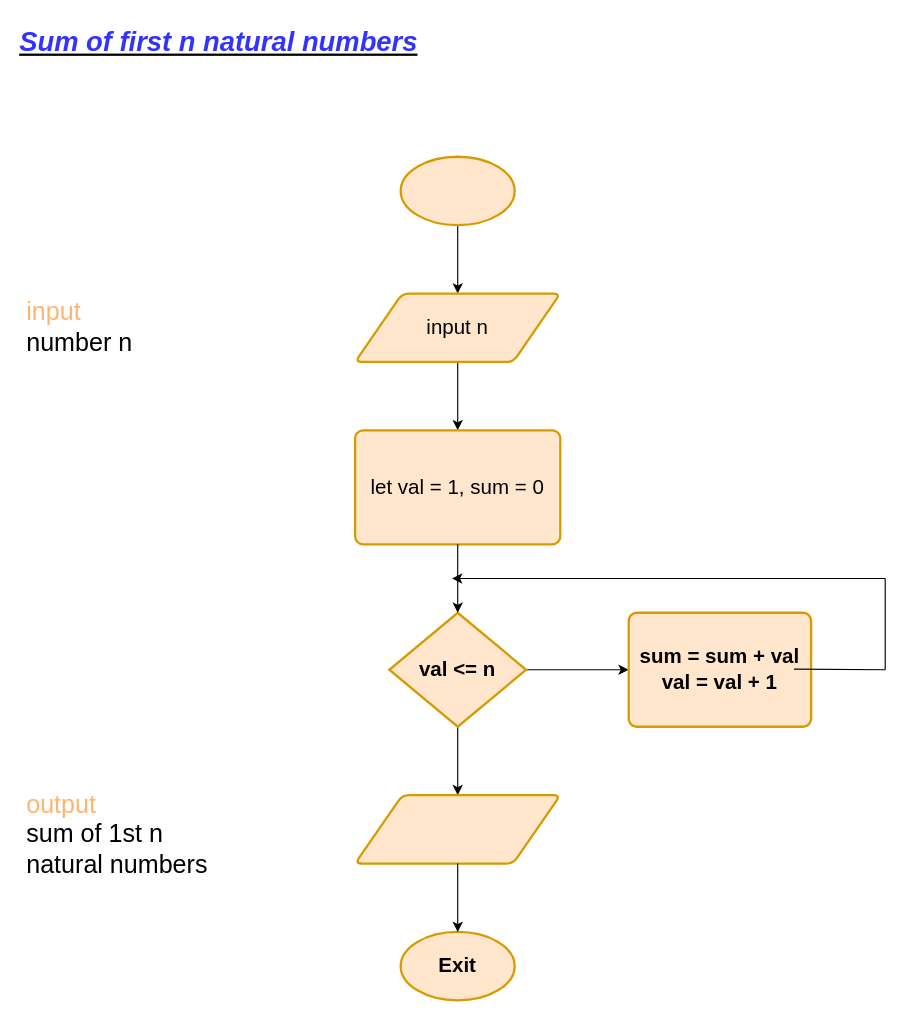
Image size: 914x1020. Some labels were removed from this diagram. Here are the shapes that lost their labels. From the top down, the box of each, then its label:
(399, 155, 515, 226): Start
(353, 793, 561, 864): print sum
